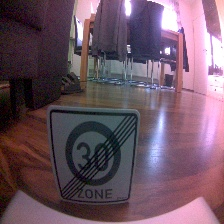dreisiger_zone_ende: (45, 103, 142, 207)
